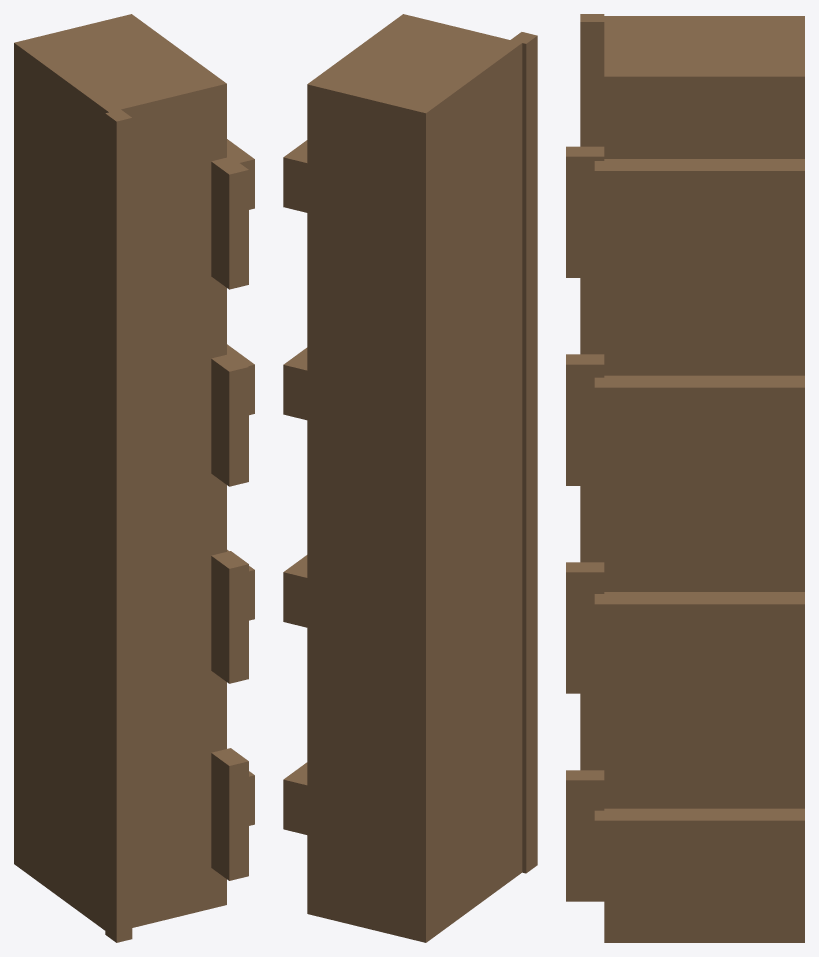
The model's file is SM_Babylon_Rampart_Wall.obj.
The picture shows the model from 3 angles, left to right: view 1: azimuth 30°, elevation 25°; view 2: azimuth 150°, elevation 25°; view 3: azimuth 270°, elevation 25°; orthographic projection. The views are drawn at different scales.
Visible parts, largest first — view 1: Mudbrick; view 2: Mudbrick; view 3: Mudbrick.
Boxes of the visible parts, bbox=[...] form: Mudbrick: bbox=[14, 14, 254, 942]; Mudbrick: bbox=[283, 14, 537, 942]; Mudbrick: bbox=[566, 14, 804, 942].
Bounding box in the file's own units: 370 × 2000 × 500.
